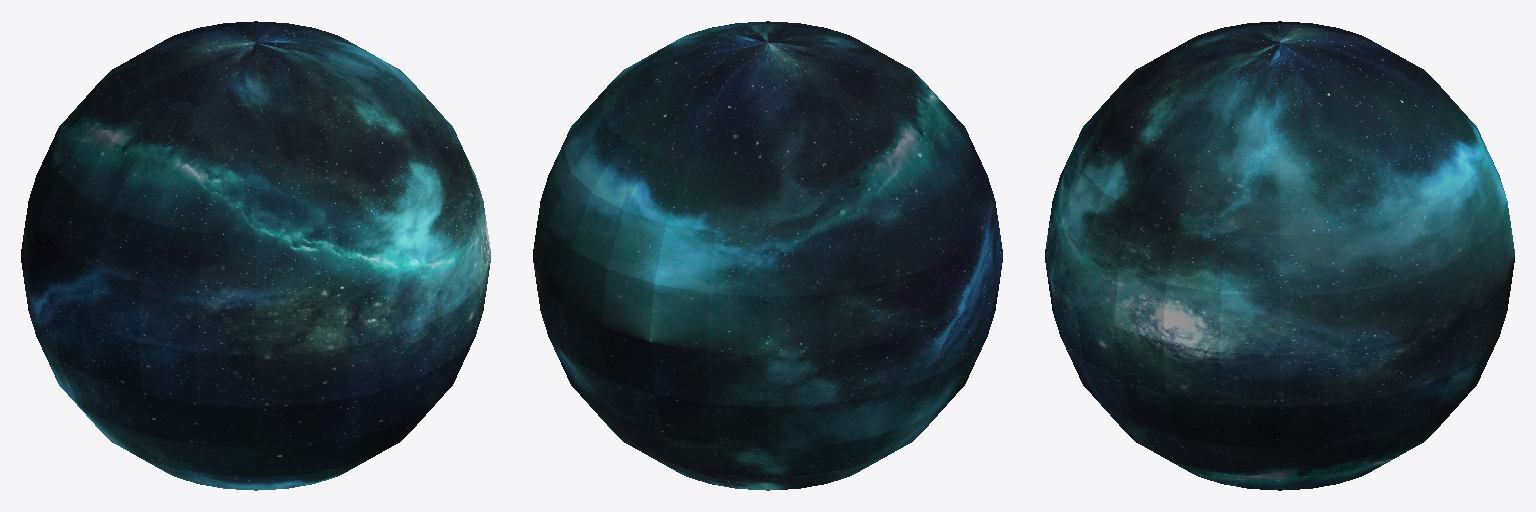
3 renders of one model, left to right at view 1: azimuth 30°, elevation 25°; view 2: azimuth 150°, elevation 25°; view 3: azimuth 270°, elevation 25°, orthographic.
Visible parts, largest first — view 1: Sphere001; view 2: Sphere001; view 3: Sphere001.
Boxes of the visible parts, box(x1,y1,x2,y2) form: Sphere001: box(21, 21, 490, 490); Sphere001: box(533, 21, 1002, 490); Sphere001: box(1045, 21, 1514, 490).
Bounding box in the file's own units: 200 × 200 × 200.
Materials: 1 (1 with a texture image).